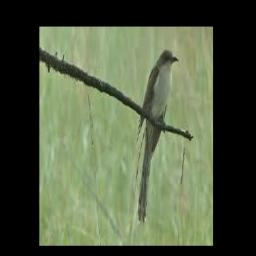Cuckoo: (135, 50, 178, 225)
